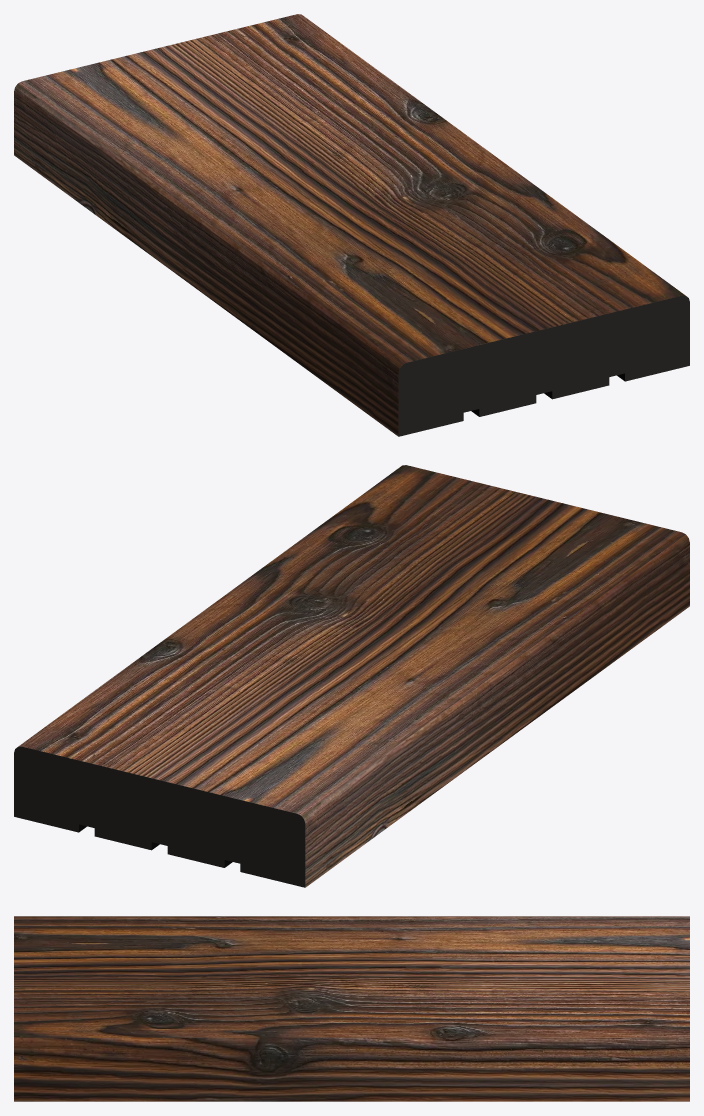
Rendered from spruce-terrace-rectangular-natural.glb.
The picture shows the model from 3 angles, top to bottom: view 1: azimuth 30°, elevation 25°; view 2: azimuth 150°, elevation 25°; view 3: azimuth 270°, elevation 25°; orthographic projection. The views are drawn at different scales.
Visible parts, largest first — view 1: Staciakampis; view 2: Staciakampis; view 3: Staciakampis.
Part boxes in pixels (x1,y1,x2,y2): Staciakampis: (14,14,689,436); Staciakampis: (14,465,689,887); Staciakampis: (14,916,689,1101).
Bounding box in the file's own units: 0.0733 × 0.0173 × 0.1675.
Materials: 3 (1 with a texture image).
